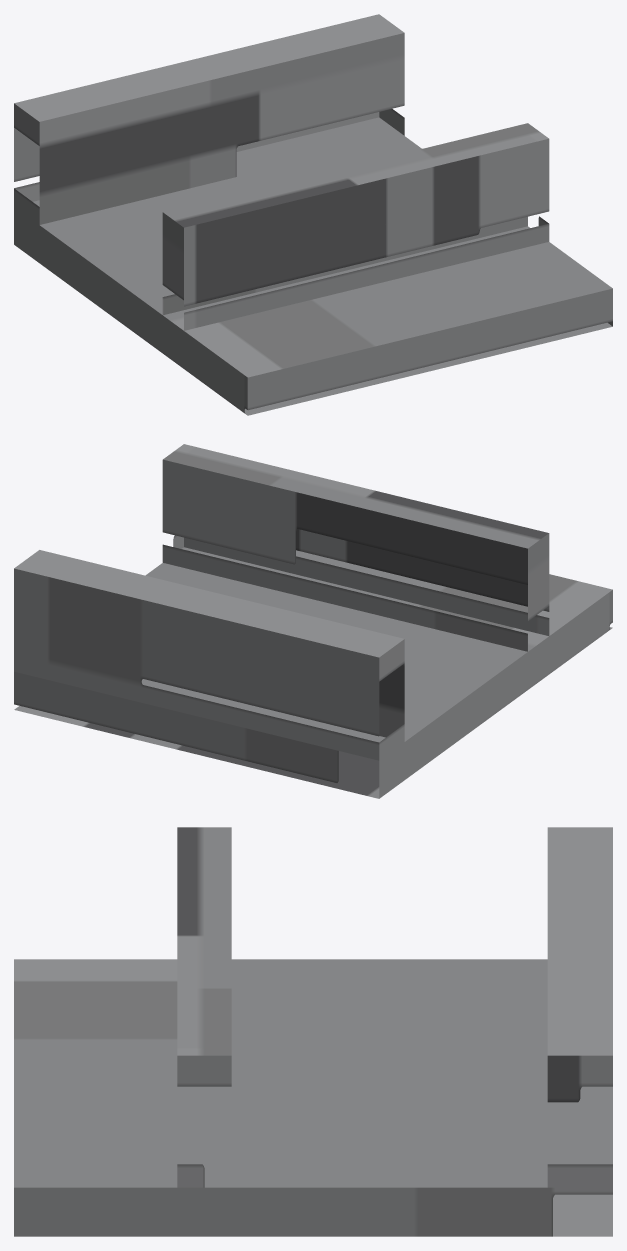
3 views of the same model, one above another, from view 1: azimuth 30°, elevation 25°; view 2: azimuth 150°, elevation 25°; view 3: azimuth 270°, elevation 25° (orthographic). The views are drawn at different scales.
Size of the model in its own units: 0.981 by 0.363 by 1.09.
